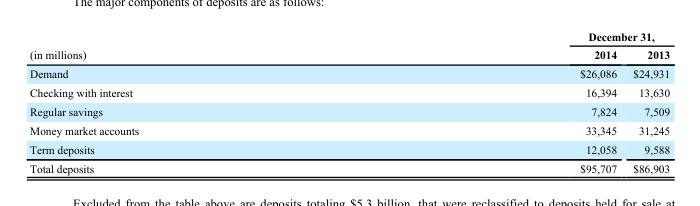table: (29, 29, 669, 174)
table column: (29, 29, 358, 174), (358, 29, 624, 174), (624, 29, 669, 174)
table column header: (29, 29, 669, 64)
table row: (29, 45, 669, 64), (29, 64, 669, 83), (29, 101, 669, 120), (29, 120, 669, 139), (29, 139, 669, 158), (29, 83, 669, 101), (29, 29, 669, 45), (29, 158, 669, 174)
table spanning cell: (29, 29, 358, 64), (358, 29, 669, 45)
